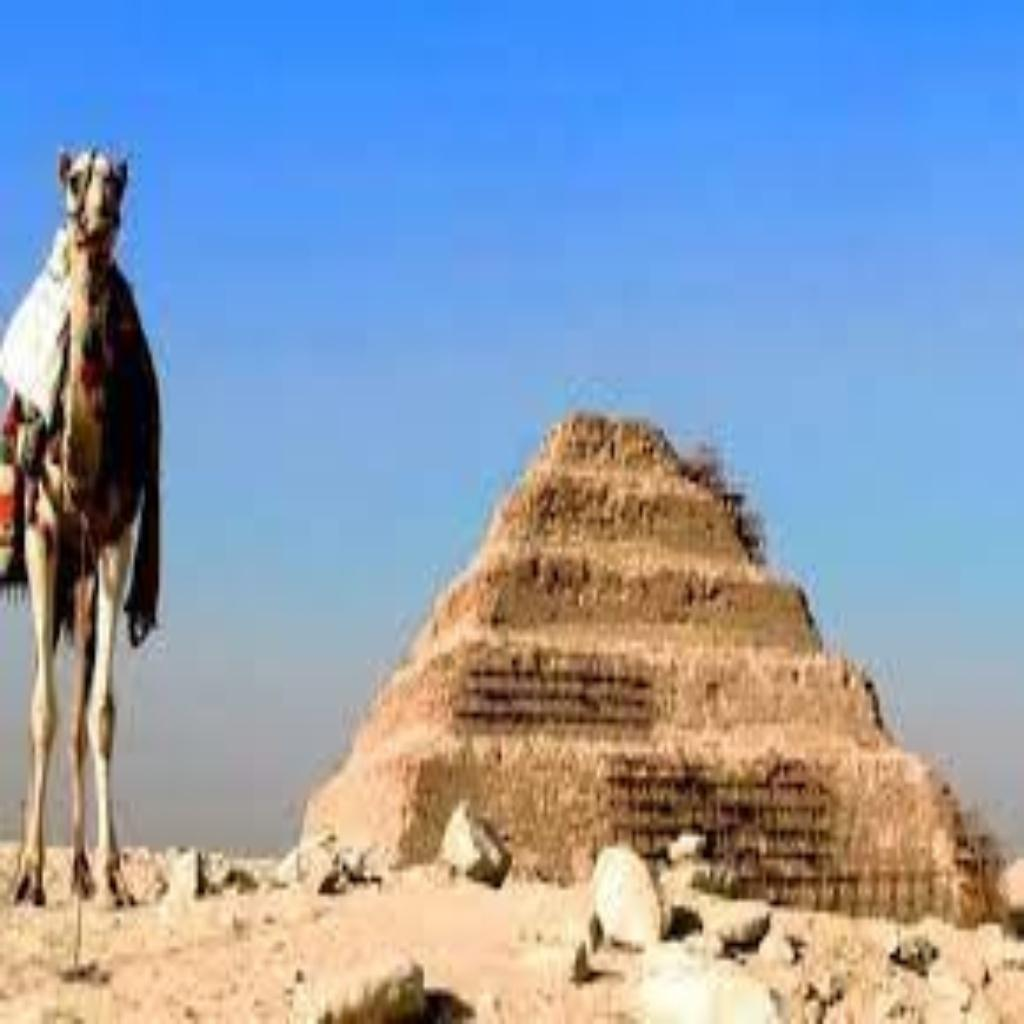Pyramid of Djoser: (293, 394, 1003, 924)
